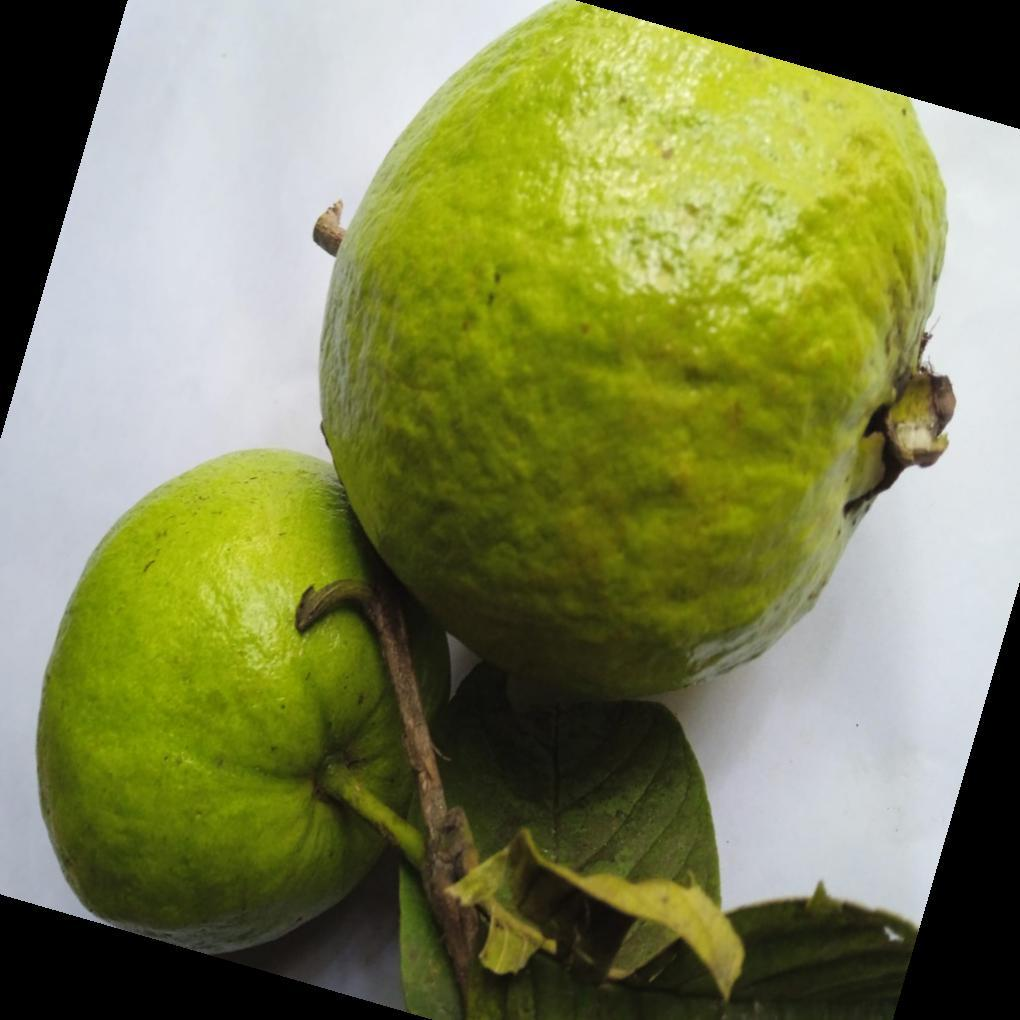FreshGuava: (33, 0, 957, 996)
